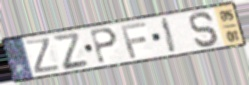F: (119, 21, 149, 60)
I: (160, 16, 179, 55)
P: (89, 27, 120, 65)
S: (188, 10, 222, 49)
Z: (51, 31, 91, 72), (24, 36, 62, 75)
